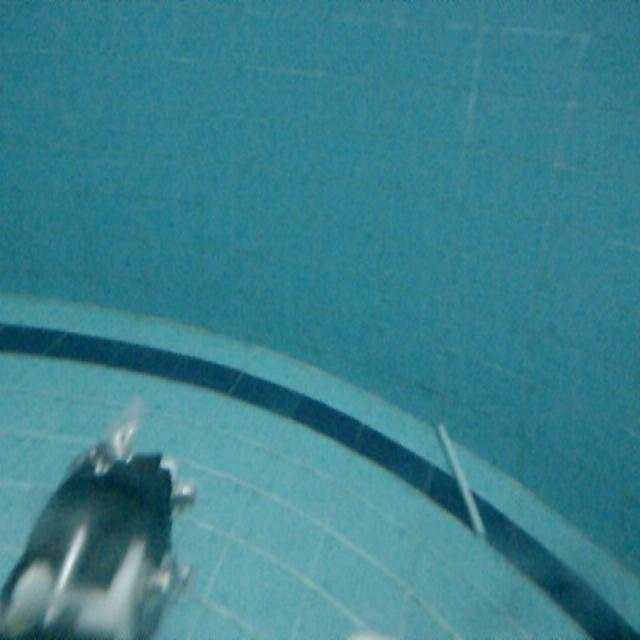Cube: (432, 421, 497, 540)
